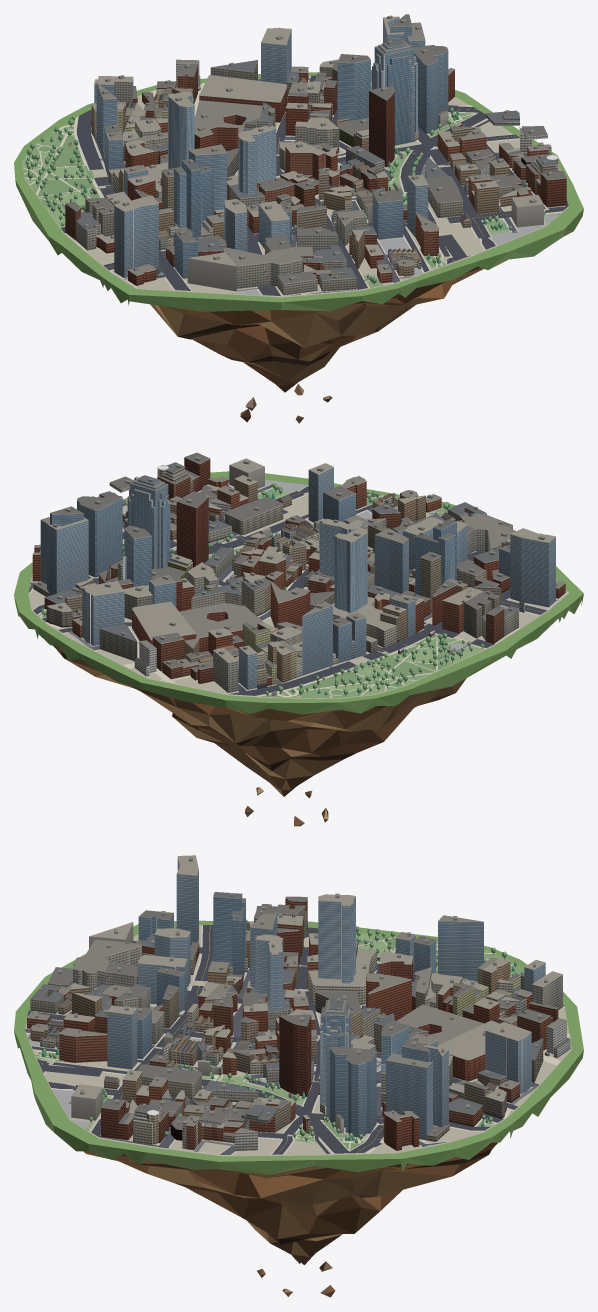
The model's file is segment-place-chncl.glb.
The picture shows the model from 3 angles, top to bottom: view 1: azimuth 30°, elevation 25°; view 2: azimuth 150°, elevation 25°; view 3: azimuth 270°, elevation 25°; orthographic projection. The views are drawn at different scales.
Visible parts, largest first — view 1: Masonry, foliage and streets, Glass curtain wall, Brick walk-up elevations, Island earth and rock, Island turf, Stone institutional elevations, Clapboard house elevations; view 2: Masonry, foliage and streets, Glass curtain wall, Brick walk-up elevations, Island earth and rock, Island turf, Stone institutional elevations, Clapboard house elevations; view 3: Masonry, foliage and streets, Glass curtain wall, Brick walk-up elevations, Island earth and rock, Island turf, Stone institutional elevations, Clapboard house elevations.
Part boxes in pixels (<box>): Masonry, foliage and streets: <box>21,14,568,297</box>; Glass curtain wall: <box>94,17,448,278</box>; Brick walk-up elevations: <box>65,61,566,285</box>; Island earth and rock: <box>150,266,483,423</box>; Island turf: <box>14,72,583,311</box>; Stone institutional elevations: <box>75,61,547,295</box>; Clapboard house elevations: <box>96,76,559,278</box>; Masonry, foliage and streets: <box>28,452,568,698</box>; Glass curtain wall: <box>40,467,555,689</box>; Brick walk-up elevations: <box>32,458,565,685</box>; Island earth and rock: <box>53,645,466,826</box>; Island turf: <box>14,471,583,714</box>; Stone institutional elevations: <box>99,483,518,695</box>; Clapboard house elevations: <box>71,468,523,684</box>; Masonry, foliage and streets: <box>25,855,571,1156</box>; Glass curtain wall: <box>107,858,545,1140</box>; Brick walk-up elevations: <box>27,898,566,1150</box>; Island earth and rock: <box>83,1142,497,1297</box>; Island turf: <box>14,920,583,1174</box>; Stone institutional elevations: <box>30,905,562,1125</box>; Clapboard house elevations: <box>40,951,570,1151</box>.
Size of the model in its own units: 0.8914 by 0.5997 by 0.8905.
8 materials, 5 textured.
